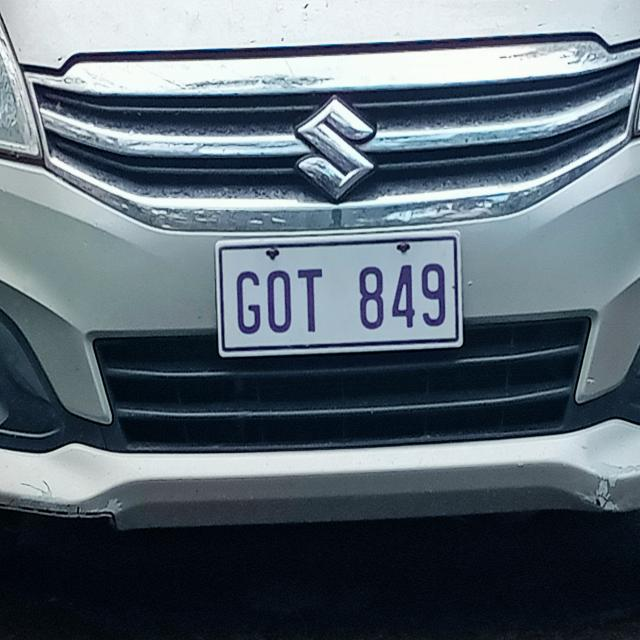plate: (213, 228, 466, 361)
